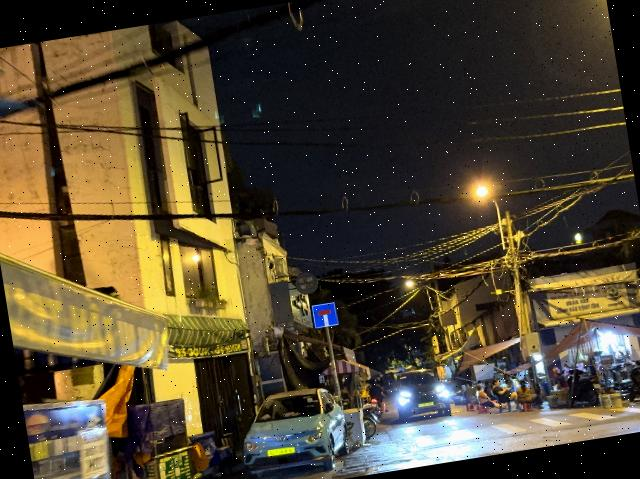duong-cut: (311, 302, 338, 328)
